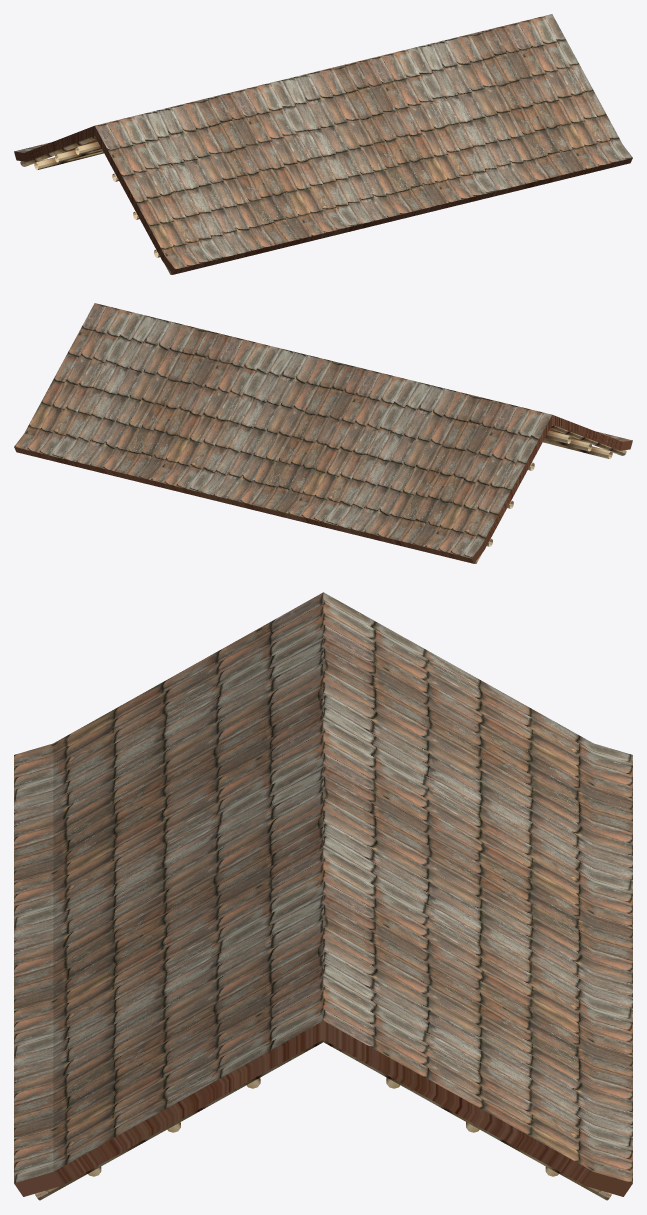
Rendered from AtapR1.fbx.
3 renders of one model, top to bottom at view 1: azimuth 30°, elevation 25°; view 2: azimuth 150°, elevation 25°; view 3: azimuth 270°, elevation 25°, orthographic. The views are drawn at different scales.
Visible parts, largest first — view 1: Genteng_R1.002; view 2: Genteng_R1.002; view 3: Genteng_R1.002.
Part boxes in pixels (x1=…): Genteng_R1.002: x1=14, y1=14, x2=632, y2=274; Genteng_R1.002: x1=14, y1=303, x2=632, y2=563; Genteng_R1.002: x1=14, y1=592, x2=632, y2=1200.
Size of the model in its own units: 27.24 by 5.48 by 16.63.
3 materials, 3 textured.
